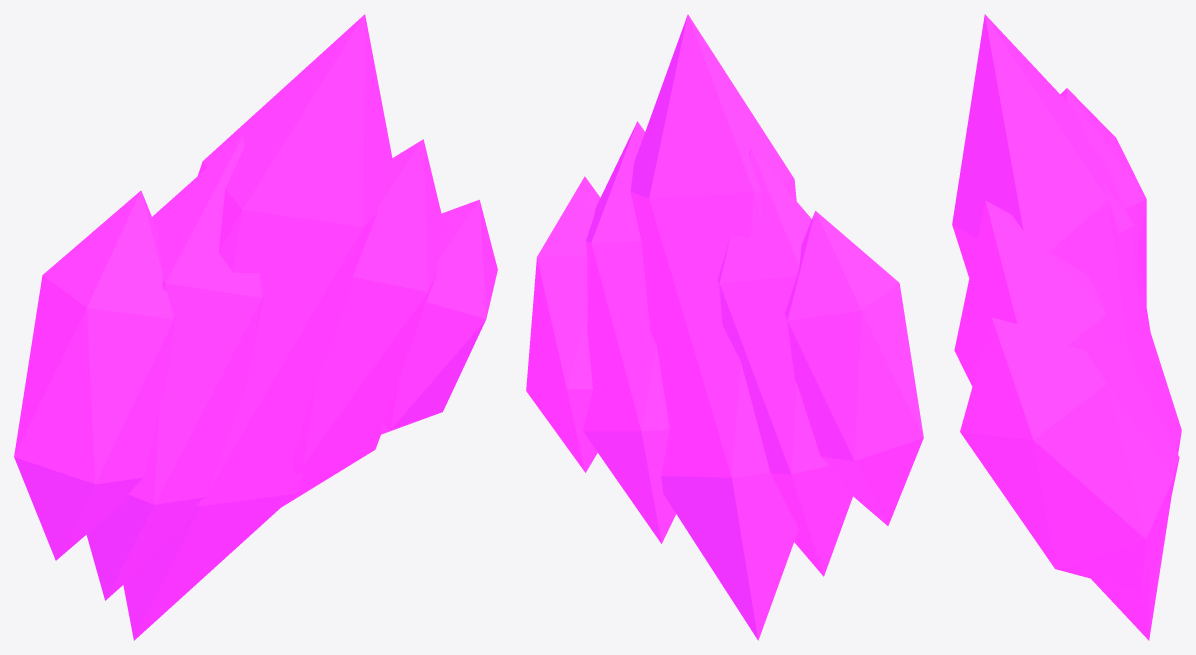
The model's file is catalyst_shards.glb.
3 renders of one model, left to right at view 1: azimuth 30°, elevation 25°; view 2: azimuth 150°, elevation 25°; view 3: azimuth 270°, elevation 25°, orthographic. The views are drawn at different scales.
Parts seen in each view (by area): view 1: Shard_02, Shard_00, Shard_01, Shard_03, Shard_04; view 2: Shard_02, Shard_00, Shard_01, Shard_03, Shard_04; view 3: Shard_04, Shard_02, Shard_03, Shard_00, Shard_01.
Boxes of the visible parts, x1,y1,x2,y2 form: Shard_02: [123, 14, 392, 640]; Shard_00: [14, 190, 175, 560]; Shard_01: [86, 136, 264, 600]; Shard_03: [282, 139, 442, 506]; Shard_04: [381, 199, 497, 434]; Shard_02: [630, 14, 798, 640]; Shard_00: [785, 211, 923, 525]; Shard_01: [717, 148, 852, 576]; Shard_03: [583, 121, 675, 543]; Shard_04: [526, 176, 600, 472]; Shard_04: [960, 317, 1173, 592]; Shard_02: [952, 14, 1181, 640]; Shard_03: [954, 200, 1179, 607]; Shard_00: [1060, 88, 1146, 306]; Shard_01: [1088, 142, 1150, 331].
Size of the model in its own units: 2.17 by 2.85 by 0.8334.
